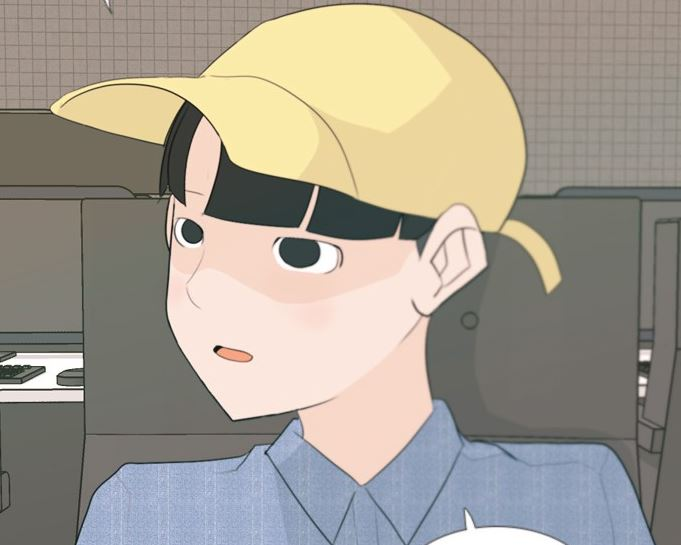hat: (50, 3, 514, 229)
